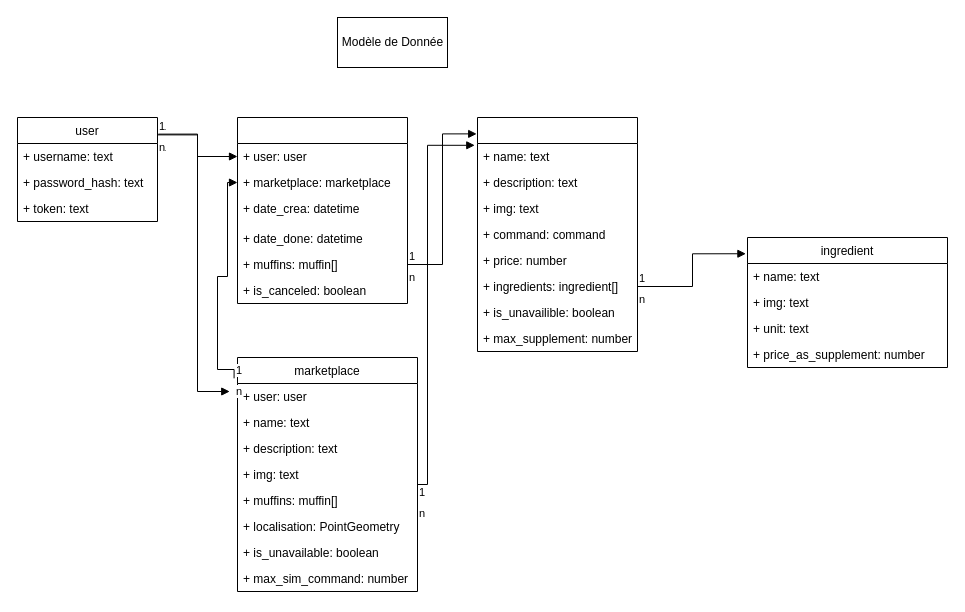
This 965x612 diagram has some shape labels left out. The box of each missing label's shape, as (x1, y1, x2, y2) in pixels:
command: (236, 116, 408, 304)
muffin: (476, 116, 638, 352)
